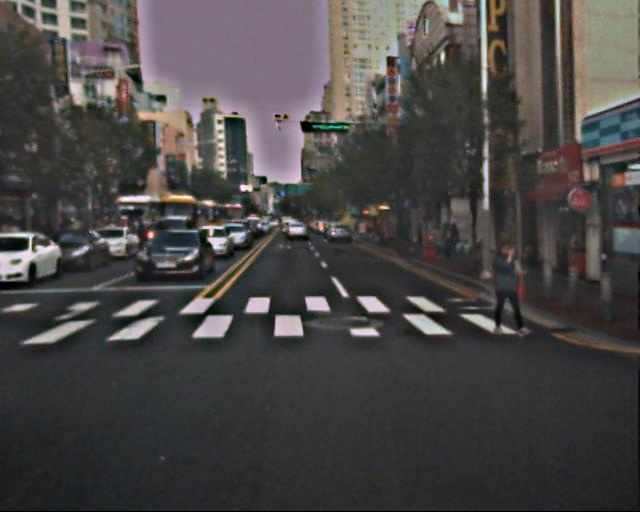person: (481, 236, 524, 341), (434, 222, 462, 262), (518, 243, 542, 270)
